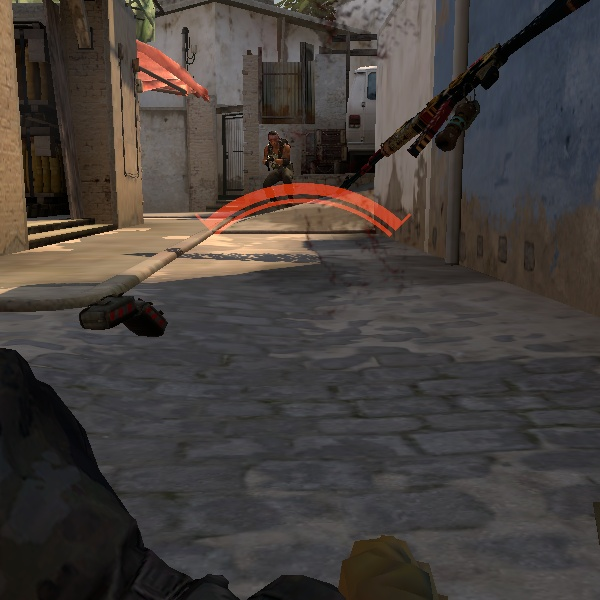t_body: (259, 131, 300, 206)
t_head: (265, 130, 285, 149)
